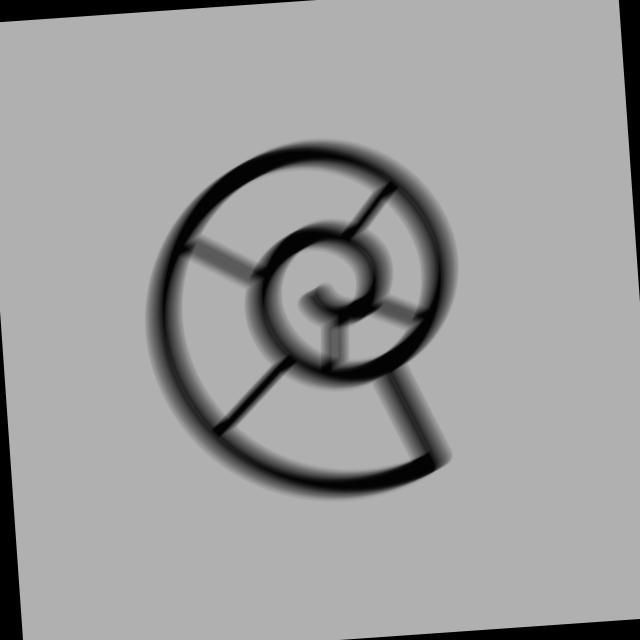fossil: (123, 122, 483, 522)
